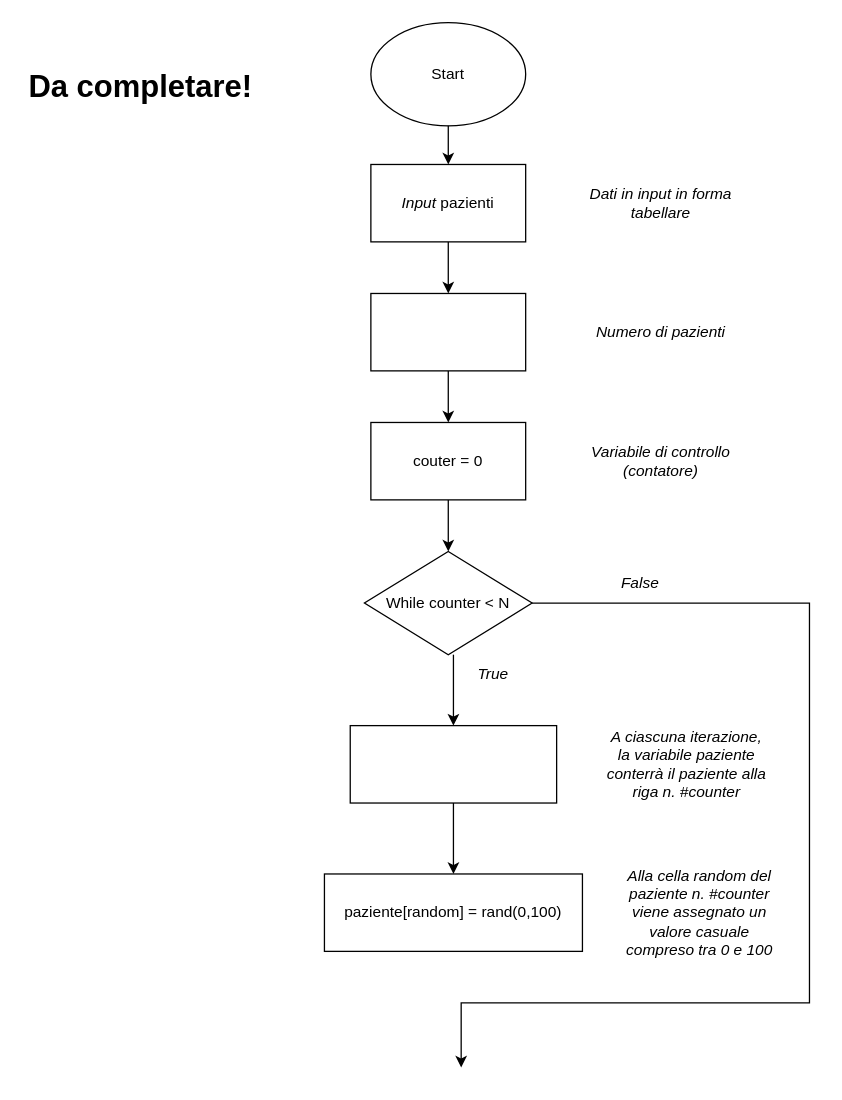
This 842x1100 diagram has some shape labels left out. Here are the shapes that lost their labels. From the top down, the centre of each, then its label:
[448,331]: N = 20
[453,763]: paziente = pazienti[counter]
